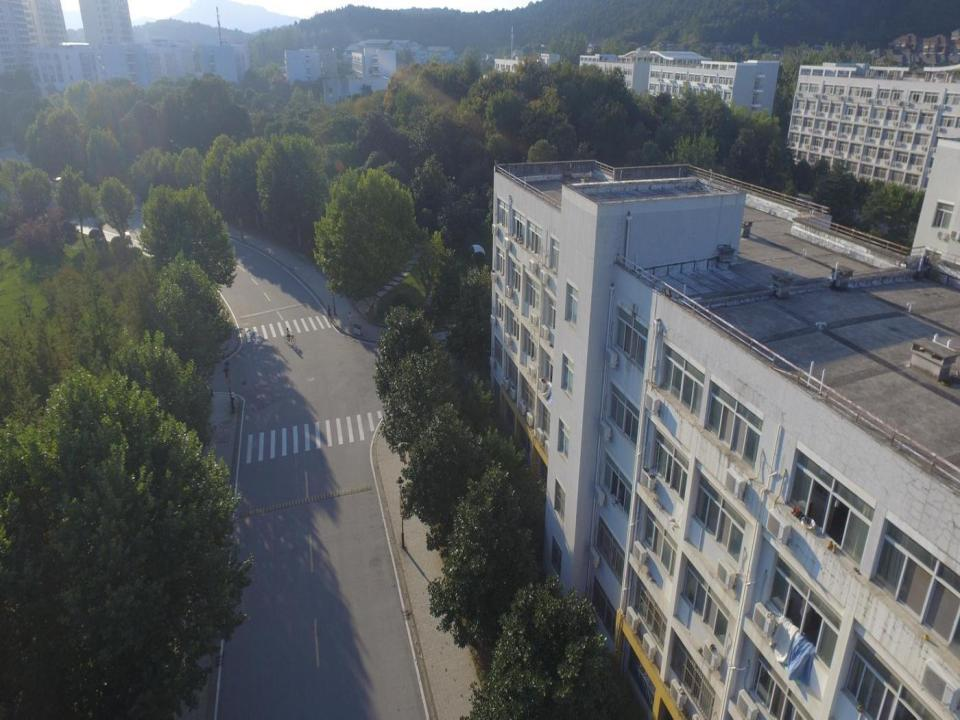car: (94, 200, 108, 212)
van: (48, 175, 63, 191)
